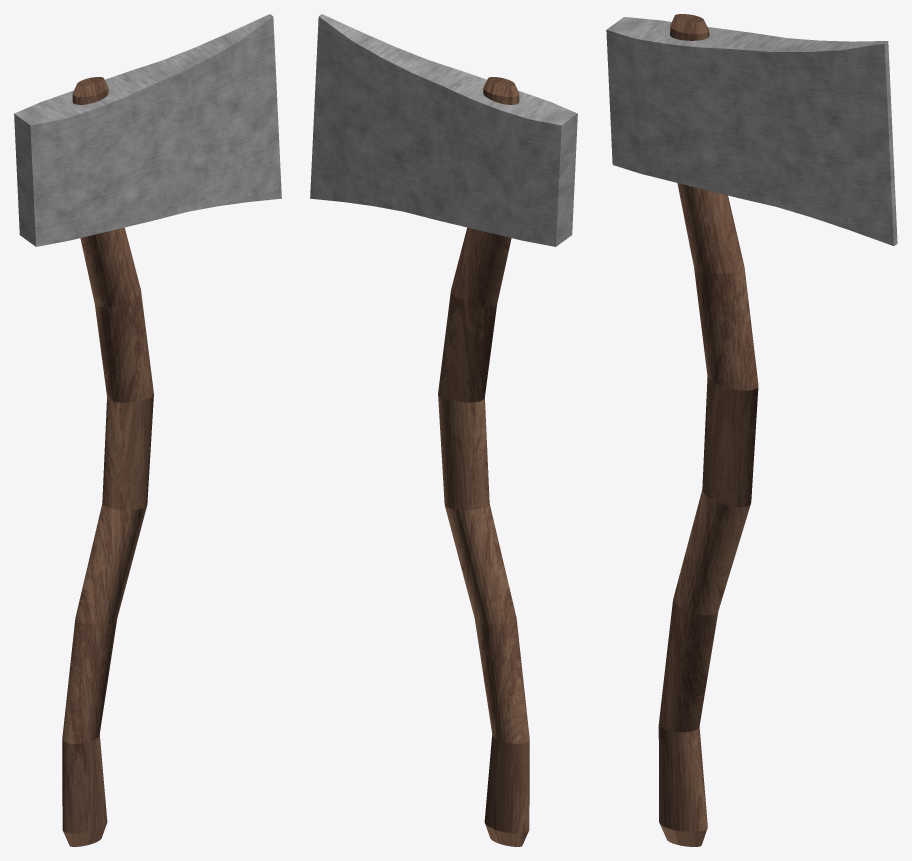
Rendered from SilverAxe.obj.
3 renders of one model, left to right at view 1: azimuth 30°, elevation 25°; view 2: azimuth 150°, elevation 25°; view 3: azimuth 330°, elevation 25°, orthographic. The views are drawn at different scales.
Parts seen in each view (by area): view 1: Cube, Cylinder; view 2: Cube, Cylinder; view 3: Cube, Cylinder.
Part boxes in pixels (x1,y1,x2,y2): Cube: (14,14,281,246); Cylinder: (62,77,153,846); Cube: (310,14,577,246); Cylinder: (438,77,529,846); Cube: (606,17,897,245); Cylinder: (658,14,758,846).
Size of the model in its own units: 0.335 by 0.9701 by 0.054.
